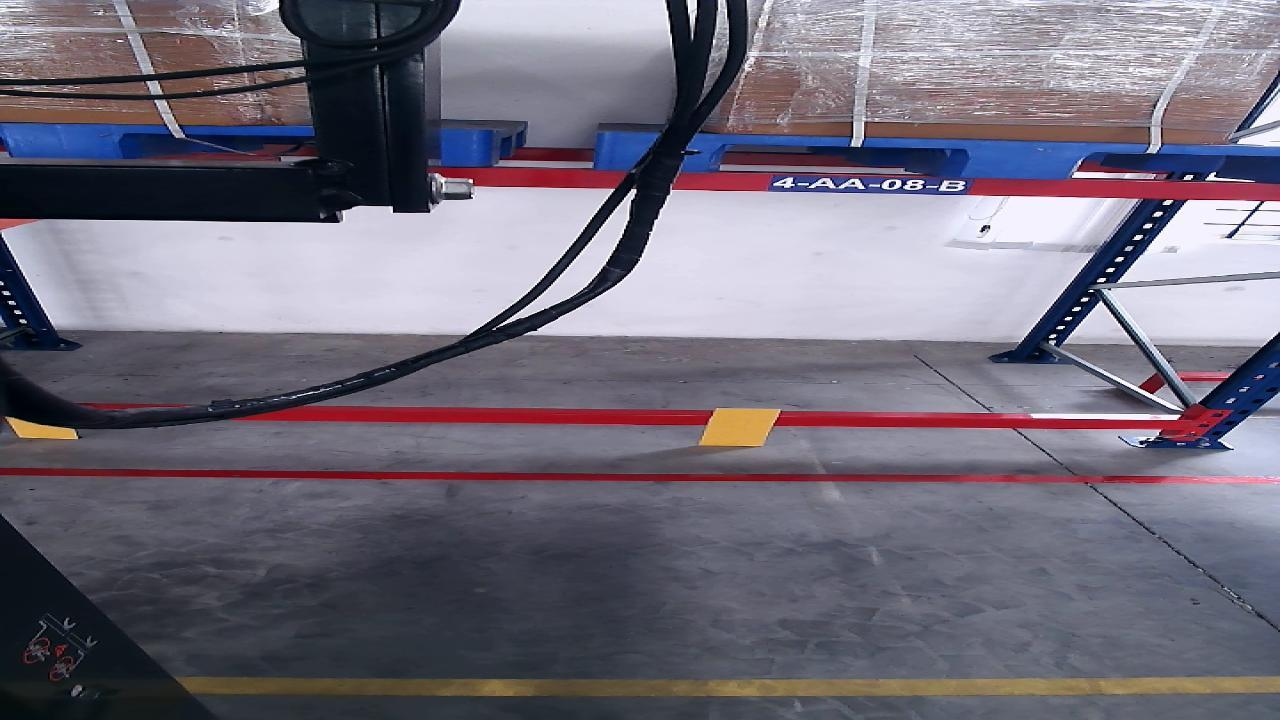h_rack: (436, 167, 1274, 199), (229, 414, 1189, 429)
orange_strip: (698, 409, 778, 446)
red_line: (4, 467, 1278, 484)
small_pallet: (597, 132, 1279, 183), (10, 124, 485, 165)
yellow_line: (181, 678, 1273, 693)
